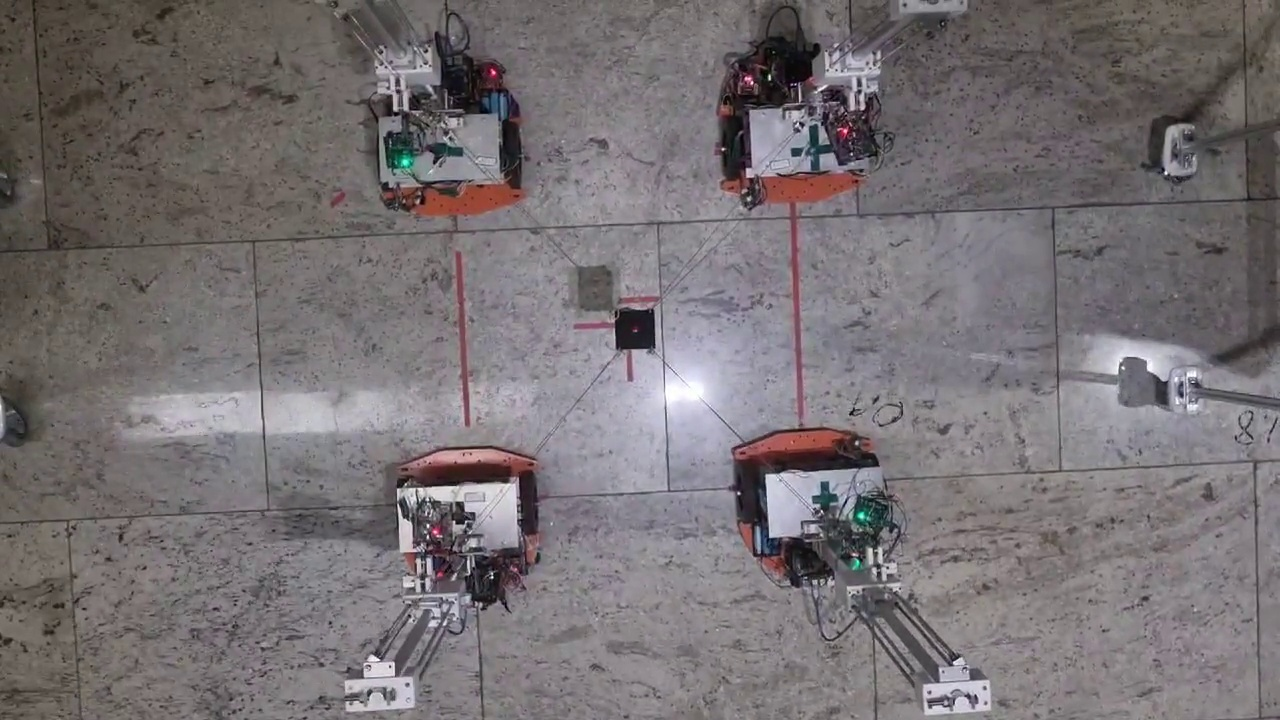e0: (616, 310, 655, 349)
r1: (736, 454, 882, 523)
r2: (722, 116, 865, 173)
r3: (376, 122, 522, 188)
r4: (398, 472, 538, 536)
y_+_axis_vector: (670, 473, 1061, 493)
y_-_axis_vector: (268, 494, 669, 509)
